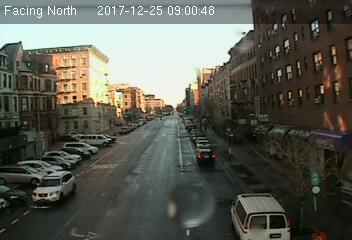car: (31, 169, 75, 205), (196, 149, 216, 165)
truck: (231, 189, 293, 240)
